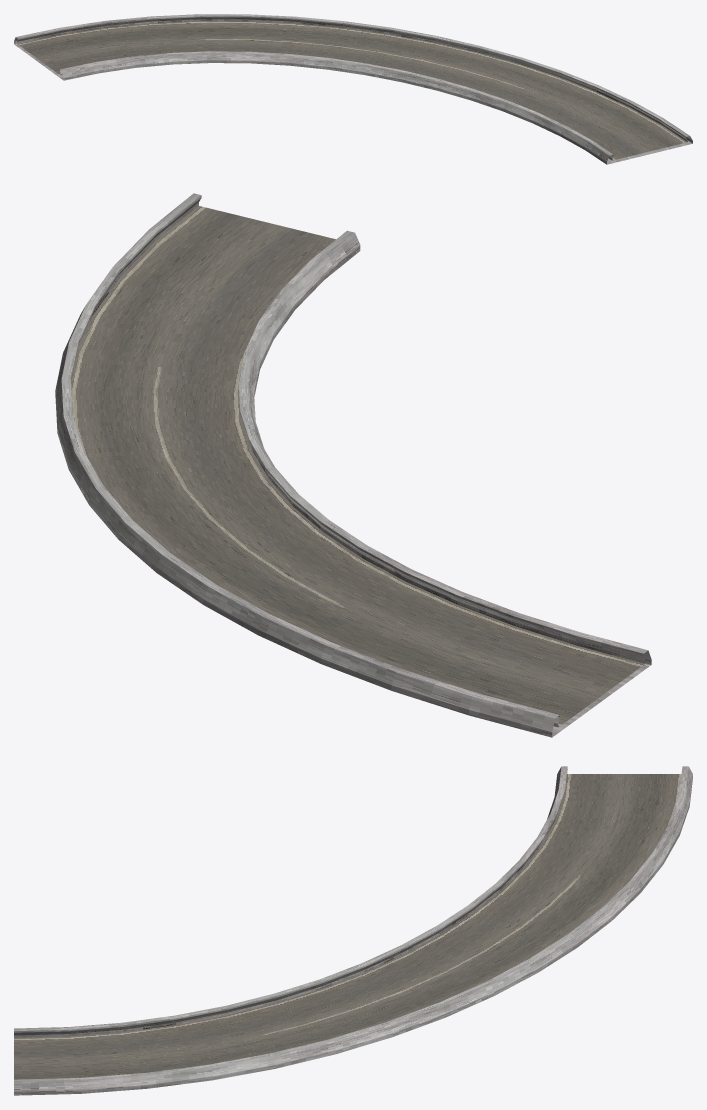
File: road-Turn-Flat-Flat-Up1-Left-Size5.glb
The picture shows the model from 3 angles, top to bottom: view 1: azimuth 30°, elevation 25°; view 2: azimuth 150°, elevation 25°; view 3: azimuth 270°, elevation 25°; orthographic projection. The views are drawn at different scales.
Visible parts, largest first — view 1: road-Turn-Flat-Flat-Up1-Left-Size5; view 2: road-Turn-Flat-Flat-Up1-Left-Size5; view 3: road-Turn-Flat-Flat-Up1-Left-Size5.
Part boxes in pixels (bbox=[...]): road-Turn-Flat-Flat-Up1-Left-Size5: bbox=[14, 14, 692, 164]; road-Turn-Flat-Flat-Up1-Left-Size5: bbox=[55, 193, 651, 737]; road-Turn-Flat-Flat-Up1-Left-Size5: bbox=[14, 766, 692, 1095].
Bounding box in the file's own units: 5 × 0.3438 × 5.
2 materials, 2 textured.
